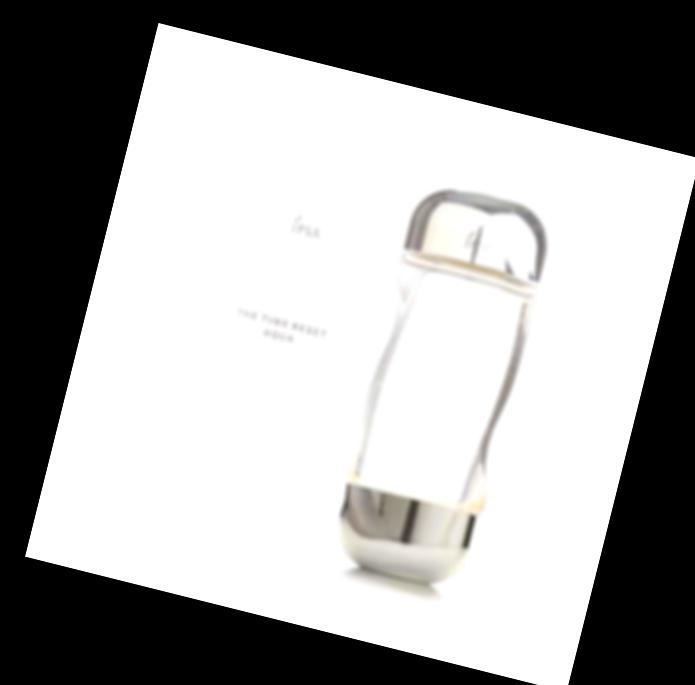cosmetic: (325, 178, 563, 598)
